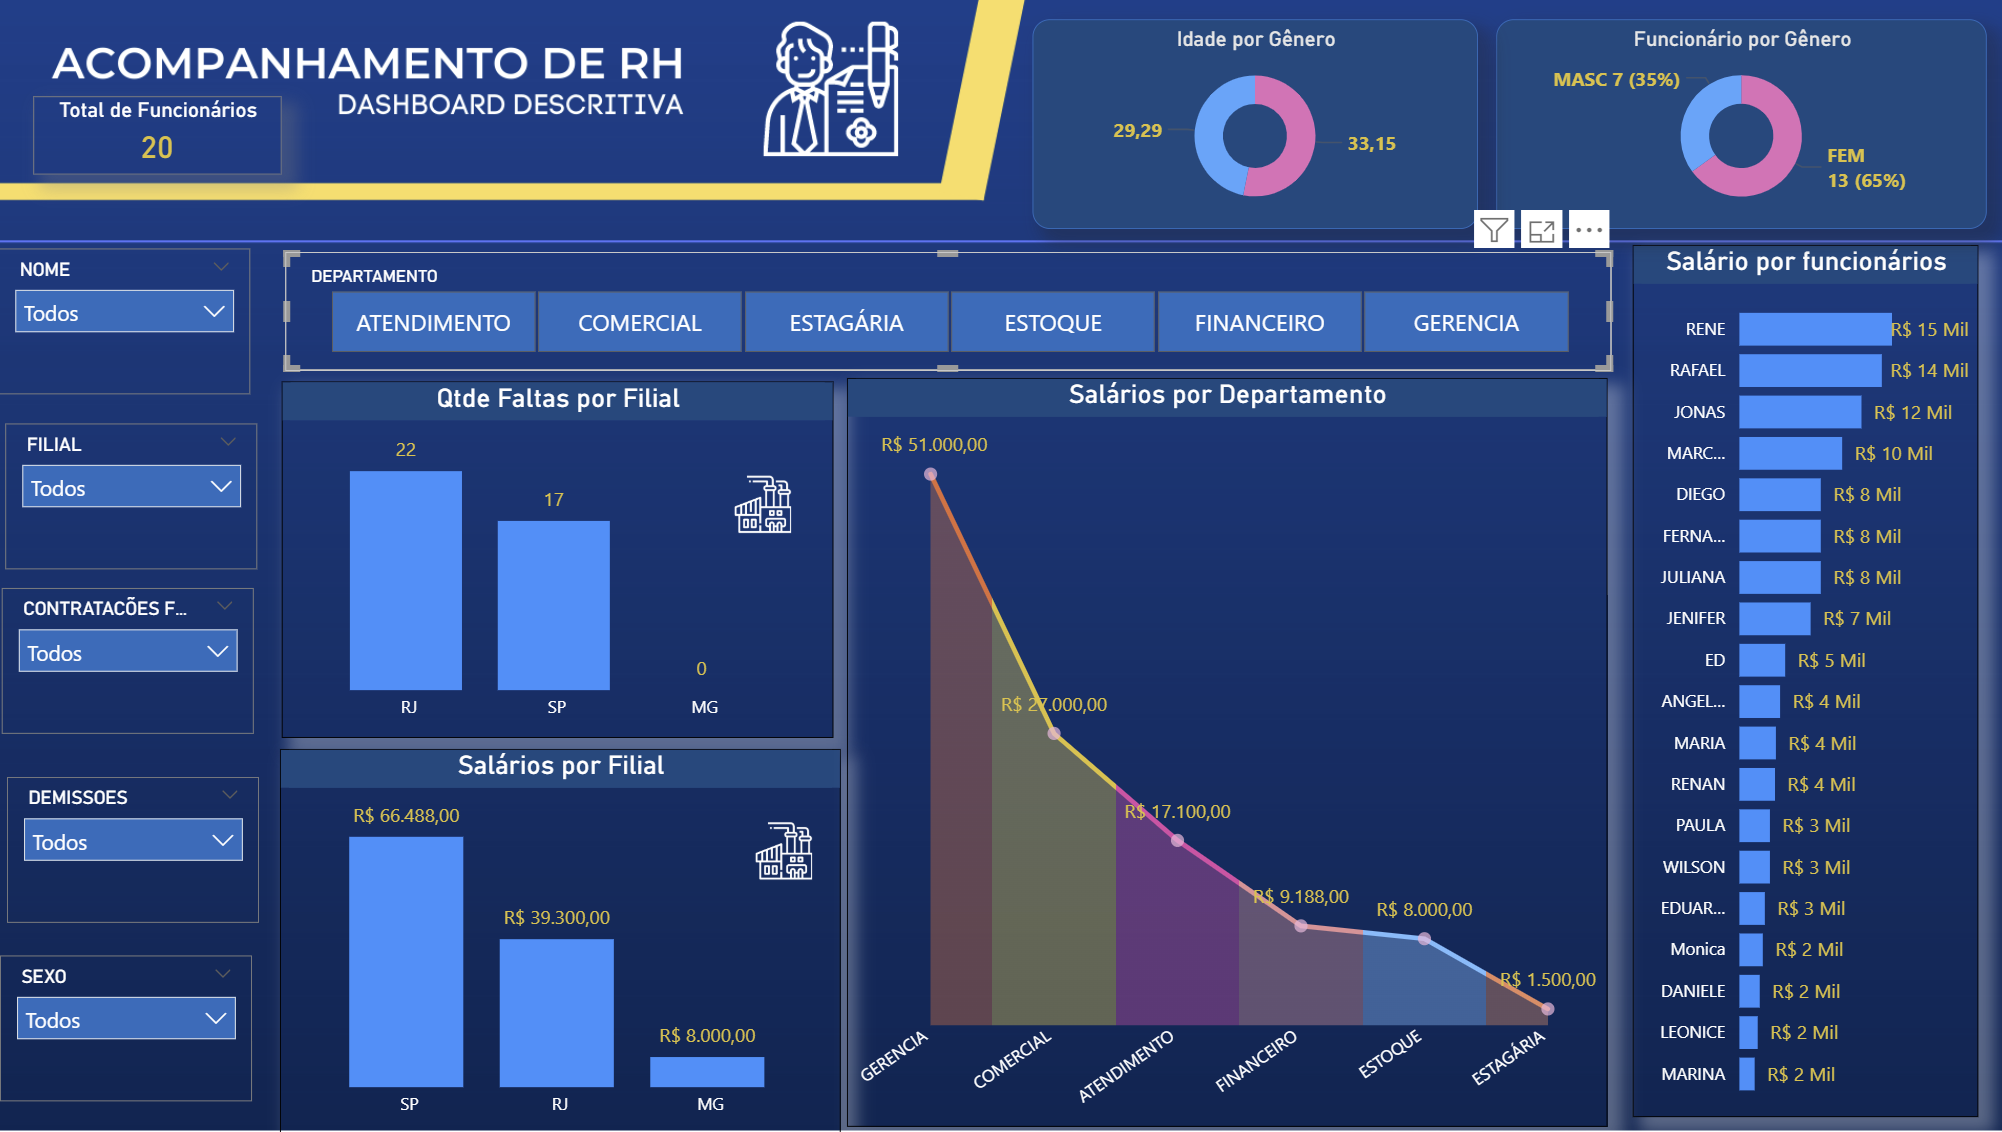

The dashboard page shown, as its layout file describes it:
{"tool":"powerbi","page":{"name":"Página 1","canvas":[1280,720],"ordinal":0},"visuals":[{"type":"barChart","title":"Salário por funcionários ","fields":{"Category":["tb_rh.NOME"],"Y":["Sum(tb_rh.SALARIO)"]},"box":[1041.6,155,219.6,553.8],"z":0},{"type":"columnChart","title":"Qtde Faltas por Filial","fields":{"Category":["tb_rh.FILIAL"],"Y":["Sum(tb_rh.QTDE FALTA)"]},"box":[183.6,242.7,350,226.2],"z":1000},{"type":"columnChart","title":"Salários por Filial","fields":{"Category":["tb_rh.FILIAL"],"Y":["Sum(tb_rh.SALARIO)"]},"box":[182.5,475,356.1,245],"z":2000},{"type":"image","box":[464,301.4,47.8,37.8],"z":3000},{"type":"image","box":[477.6,521.3,47.8,37.8],"z":4000},{"type":"areaChart","title":"Salários por Departamento","fields":{"Category":["tb_rh.DEPARTAMENTO"],"Y":["Sum(tb_rh.SALARIO)"]},"box":[542.5,239.8,482.7,475.2],"z":5000},{"type":"slicer","fields":{"Values":["tb_rh.DEPARTAMENTO"]},"box":[185.4,160,842.1,75],"z":6000},{"type":"donutChart","title":"Funcionário por Gênero","fields":{"Category":["tb_rh.SEXO"],"Y":["CountNonNull(tb_rh.SEXO)"]},"box":[954.9,11.9,311.7,133.3],"z":6001},{"type":"donutChart","title":"Idade por Gênero","fields":{"Category":["tb_rh.SEXO"],"Y":["Avg(tb_rh.IDADE)"]},"box":[660.2,11.7,283.1,133.3],"z":6002},{"type":"slicer","fields":{"Values":["tb_rh.NOME"]},"box":[3.6,157.9,160,92.5],"z":6003},{"type":"card","title":"Total de Funcionários","fields":{"Values":["Count(tb_rh.ID)"]},"box":[25,61.2,157.7,49.8],"z":6004},{"type":"slicer","fields":{"Values":["tb_rh.FILIAL"]},"box":[7.3,269.3,160,92.5],"z":6005},{"type":"slicer","fields":{"Values":["tb_rh.CONTRATACÕES FEITAS"]},"box":[5.9,373.2,160,92.5],"z":6006},{"type":"slicer","fields":{"Values":["tb_rh.DEMISSOES"]},"box":[8.8,493,160,92.5],"z":6007},{"type":"slicer","fields":{"Values":["tb_rh.SEXO"]},"box":[4.5,607,160,92.5],"z":6008}]}

Visuals, with their boxes in screenshot pixels (x1, y1, x2, y2), scaled from the page's 1280x720 canvas onto the 2002x1132 screenshot:
"Salário por funcionários " barChart: l=1629, t=244, r=1973, b=1114
"Qtde Faltas por Filial" columnChart: l=287, t=382, r=835, b=737
"Salários por Filial" columnChart: l=285, t=747, r=842, b=1131
image: l=726, t=474, r=800, b=533
image: l=747, t=820, r=822, b=879
"Salários por Departamento" areaChart: l=849, t=377, r=1603, b=1124
slicer - tb_rh.DEPARTAMENTO: l=290, t=252, r=1607, b=369
"Funcionário por Gênero" donutChart: l=1494, t=19, r=1981, b=228
"Idade por Gênero" donutChart: l=1033, t=18, r=1475, b=228
slicer - tb_rh.NOME: l=6, t=248, r=256, b=394
"Total de Funcionários" card: l=39, t=96, r=286, b=175
slicer - tb_rh.FILIAL: l=11, t=423, r=262, b=569
slicer - tb_rh.CONTRATACÕES FEITAS: l=9, t=587, r=259, b=732
slicer - tb_rh.DEMISSOES: l=14, t=775, r=264, b=921
slicer - tb_rh.SEXO: l=7, t=954, r=257, b=1100
